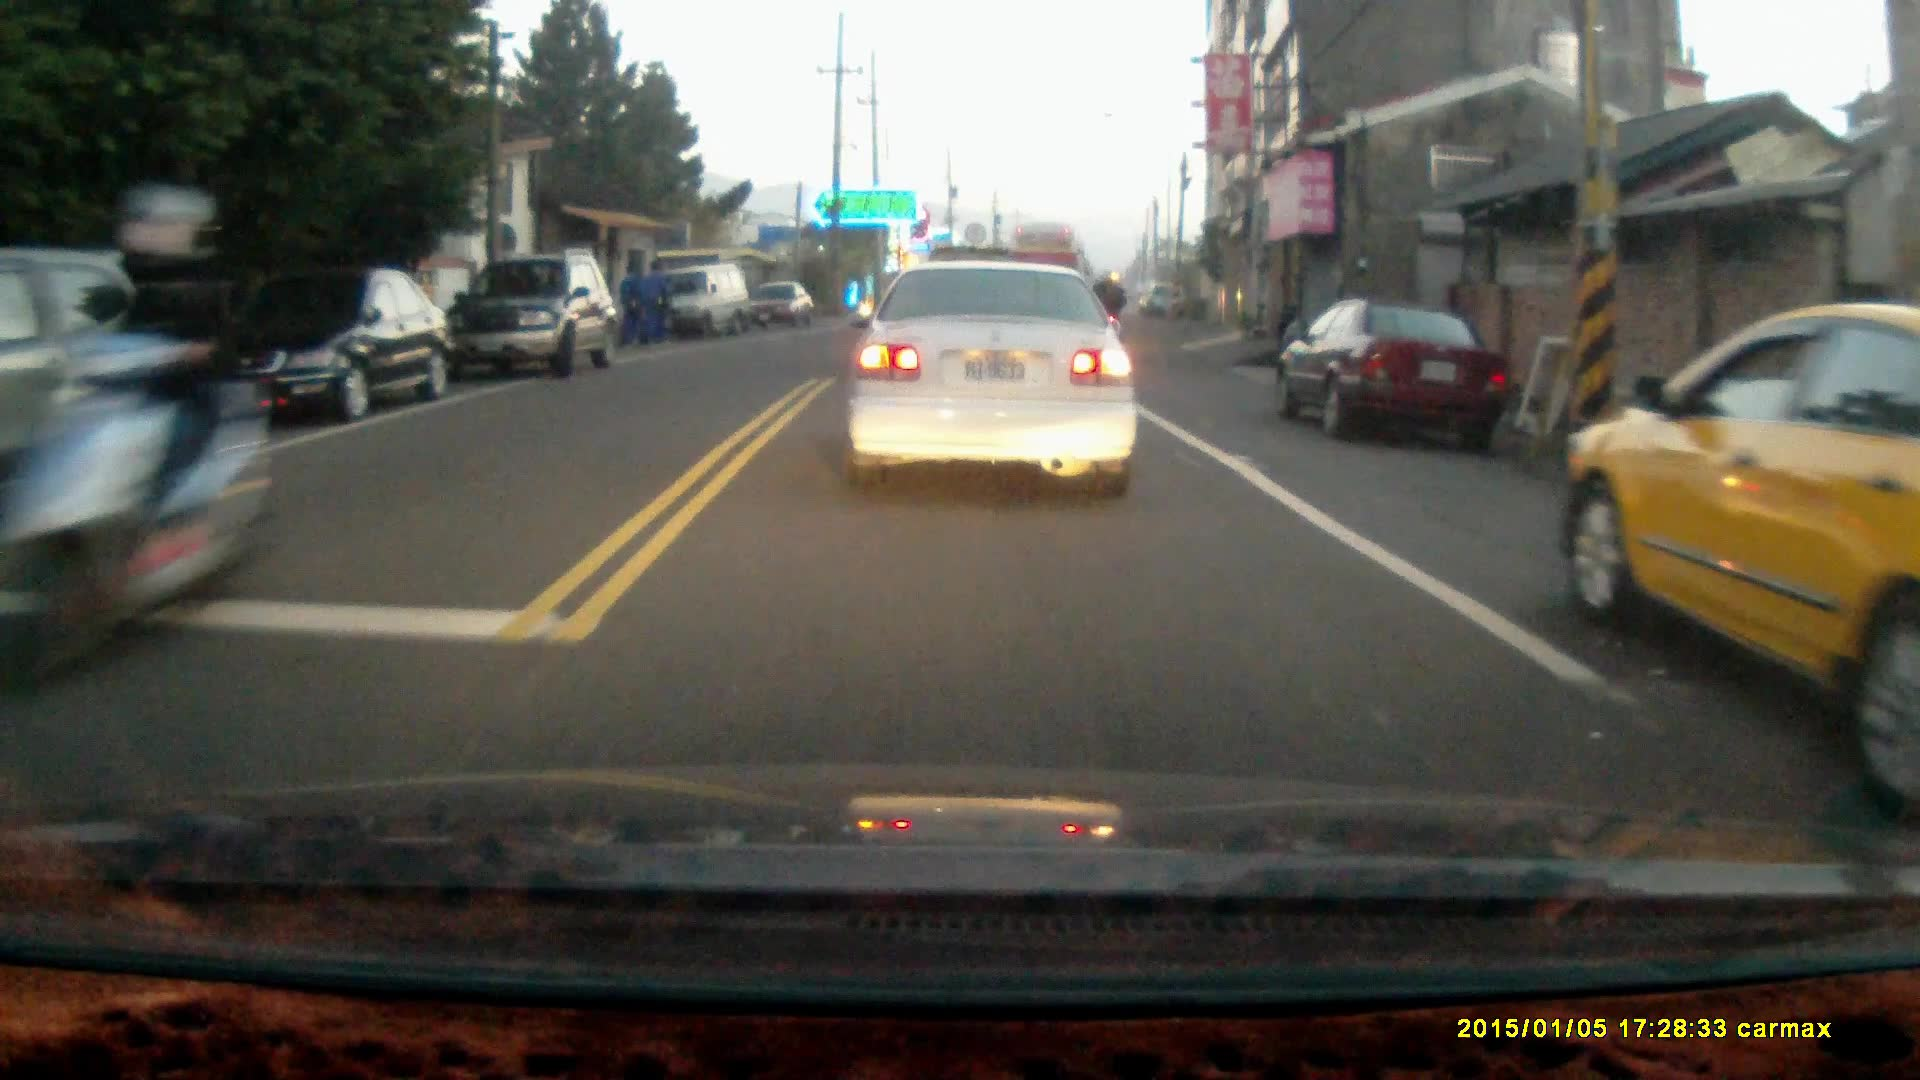pedestrian: (616, 263, 645, 349), (639, 261, 667, 351)
rider: (12, 182, 274, 717), (1085, 264, 1128, 361)
vehicle: (1559, 298, 1920, 828), (850, 262, 1140, 506), (181, 264, 453, 424), (1275, 298, 1513, 449), (439, 251, 619, 380), (643, 266, 753, 341), (731, 280, 815, 330)
